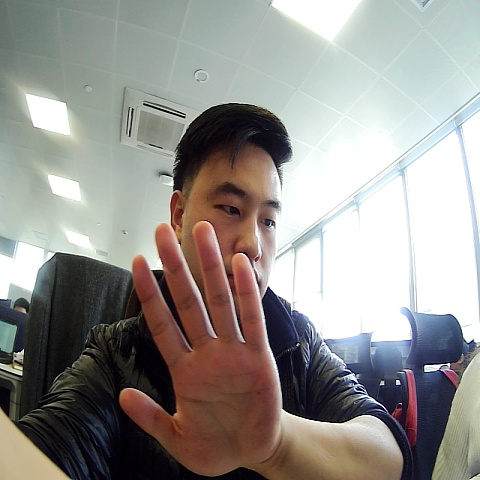palm: (118, 219, 295, 477)
